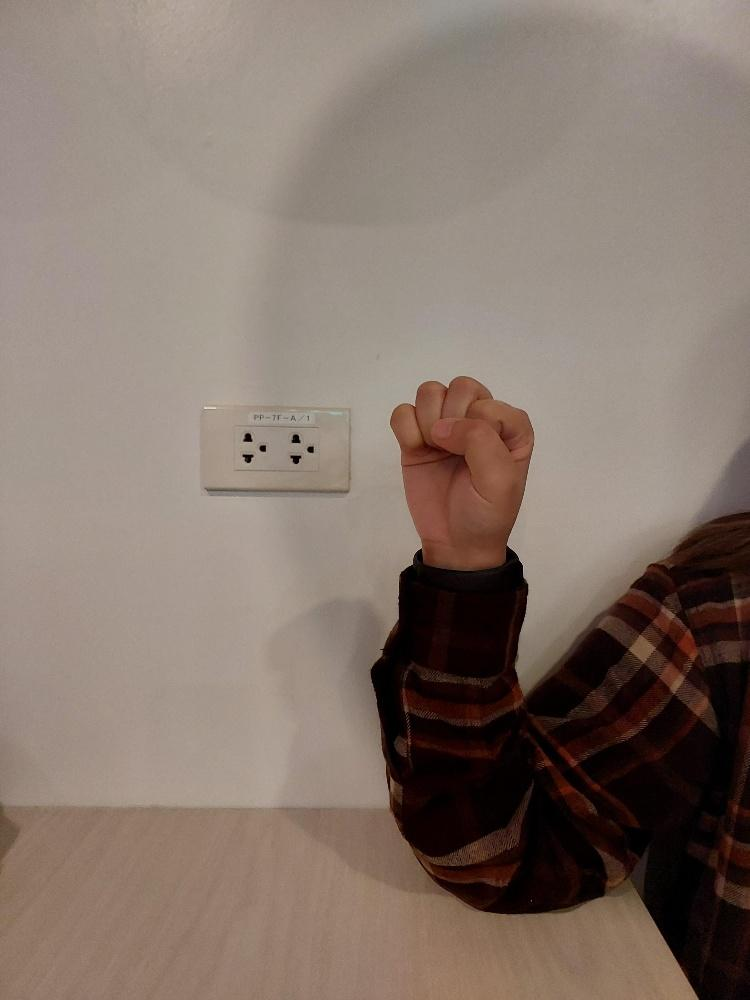s: (385, 370, 539, 556)
